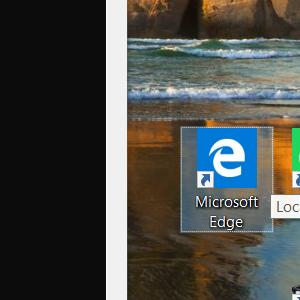edge: (196, 128, 257, 188)
